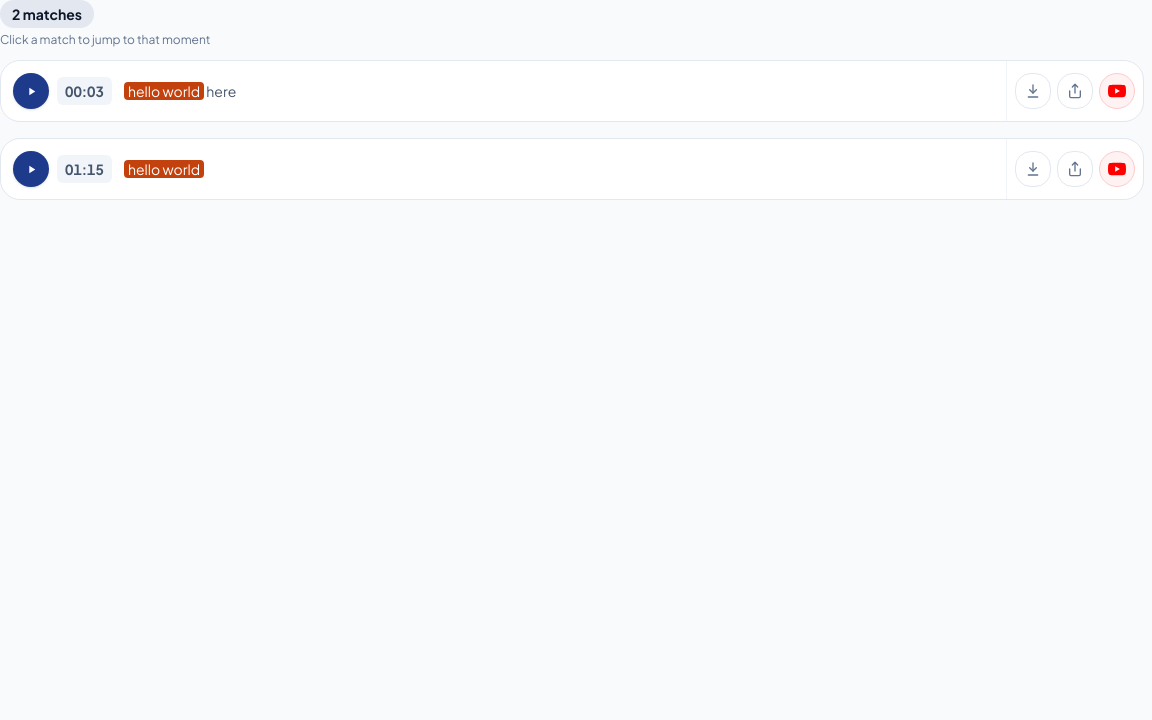
Scenario: ResultsList › cancels a pending match download when its button is clicked again
Click the button named "Download from 00:03 to the end (MP4)".
click(1033, 91)  # box left=1015, top=73, right=1051, bottom=109
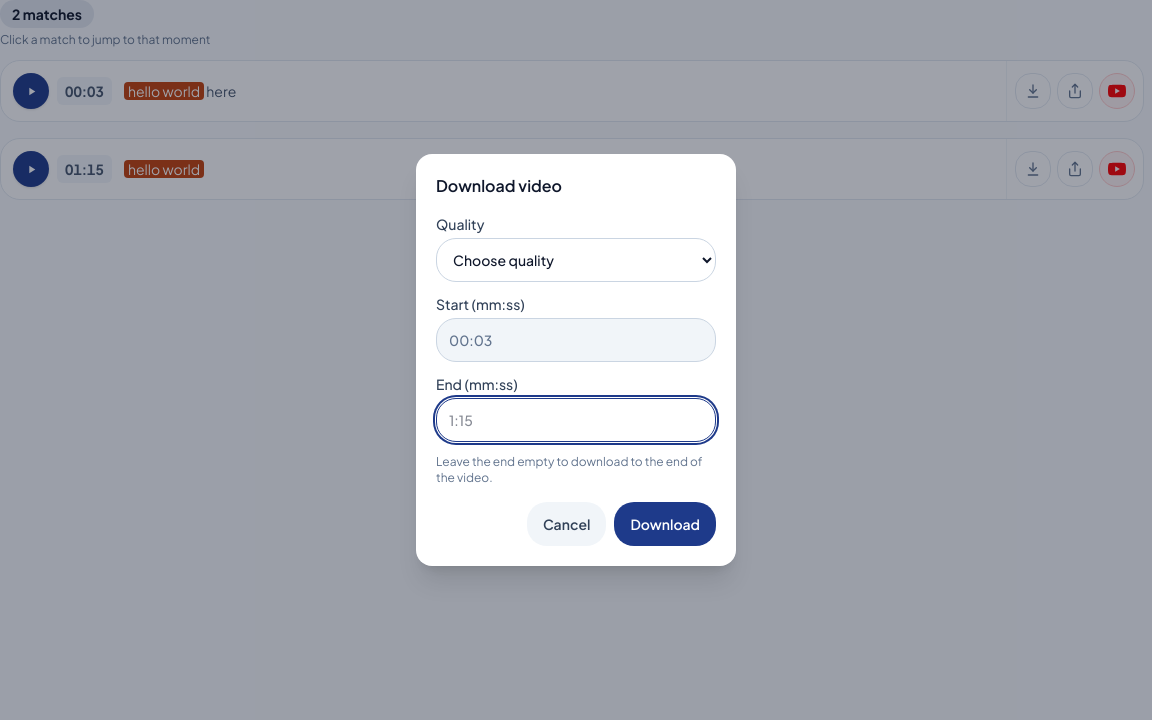
Click the button "Download".
click(665, 524)  # box left=614, top=502, right=716, bottom=546
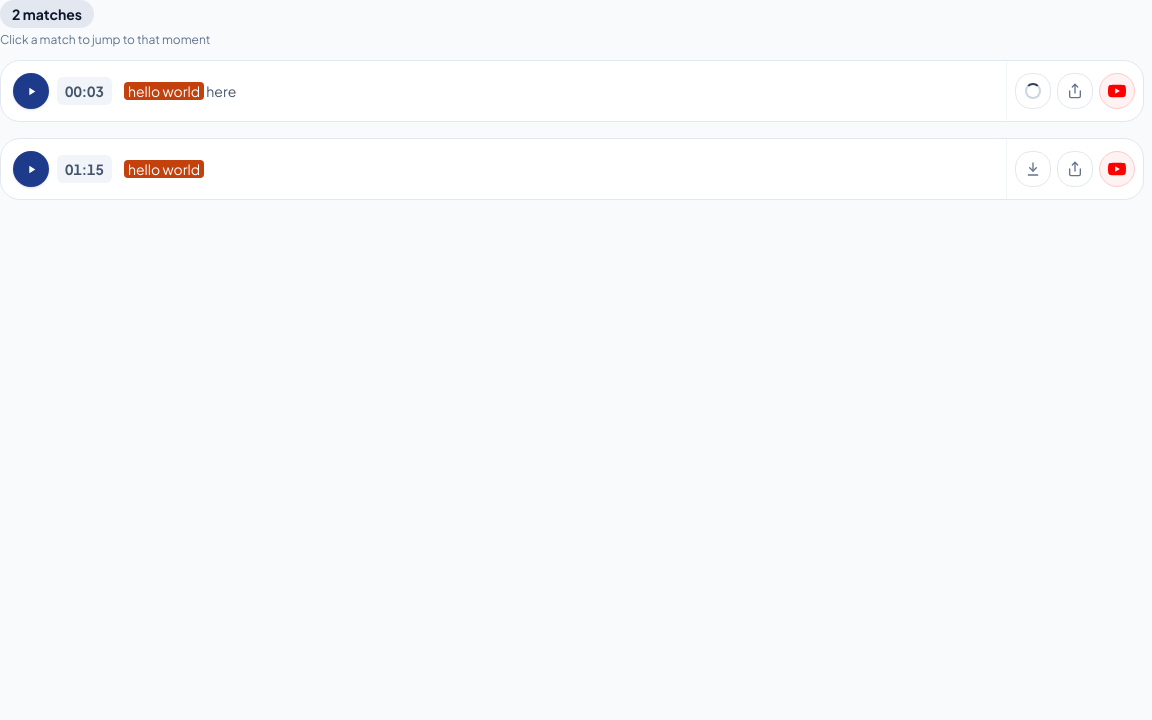
Click the button named "Cancel download".
click(1033, 91)  # box left=1015, top=73, right=1051, bottom=109
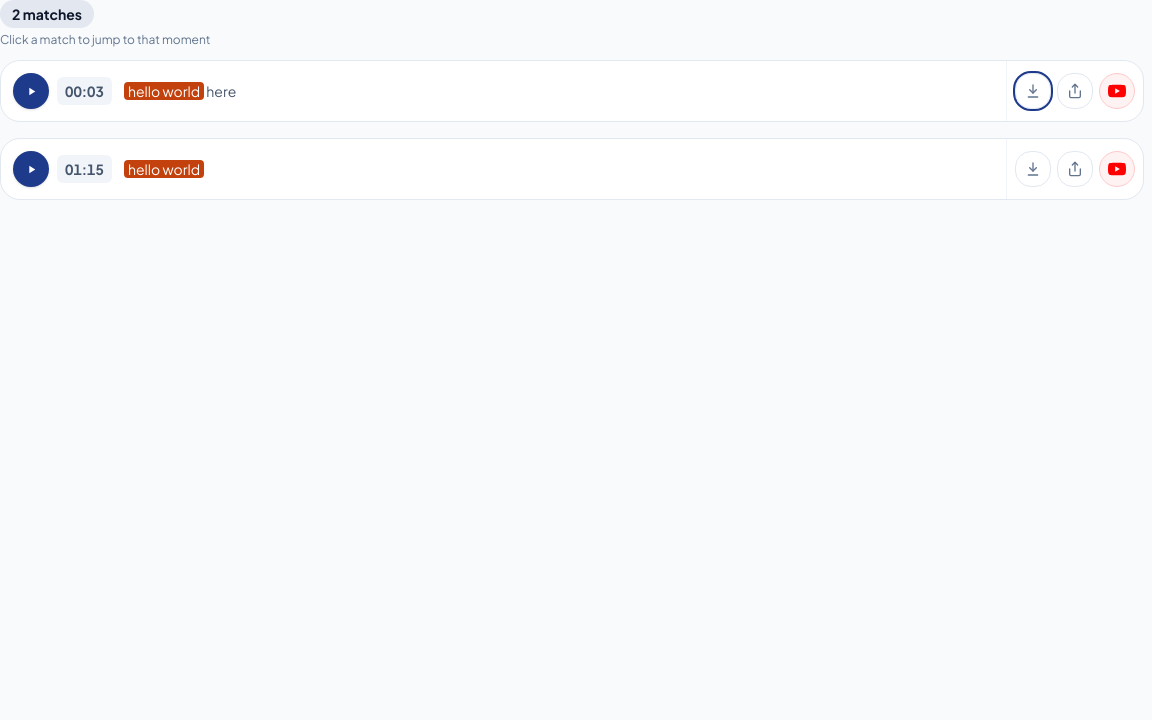
Check: the button named "Download from 00:03 to the end (MP4)" is shown, box left=1015, top=73, right=1051, bottom=109
